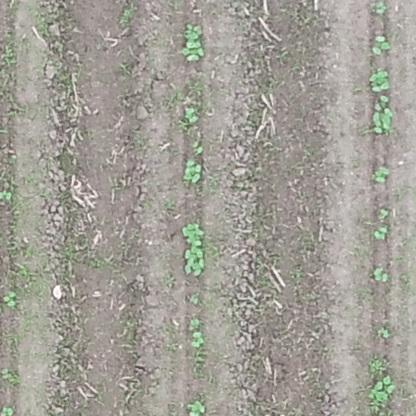vc: (179, 220, 208, 277), (372, 94, 394, 137), (183, 21, 205, 62), (369, 373, 398, 402), (367, 67, 393, 92), (180, 159, 203, 185), (181, 104, 202, 126), (372, 164, 394, 185), (373, 322, 394, 341), (373, 33, 391, 53), (184, 399, 206, 415), (2, 289, 19, 308), (372, 264, 391, 281), (374, 225, 390, 242), (191, 330, 204, 347), (1, 188, 13, 203), (190, 317, 200, 325)
